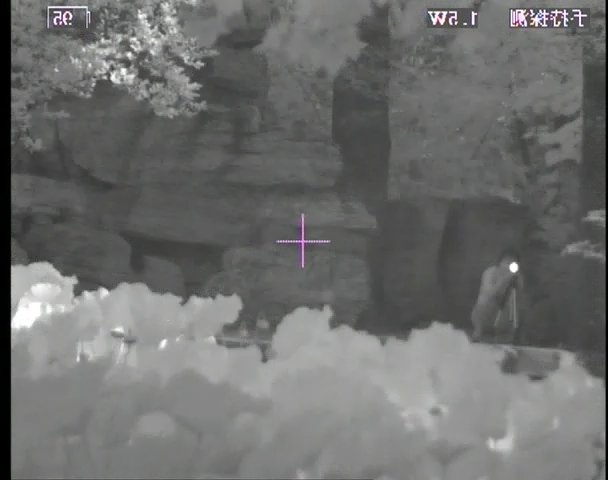my: (507, 260, 521, 276)
